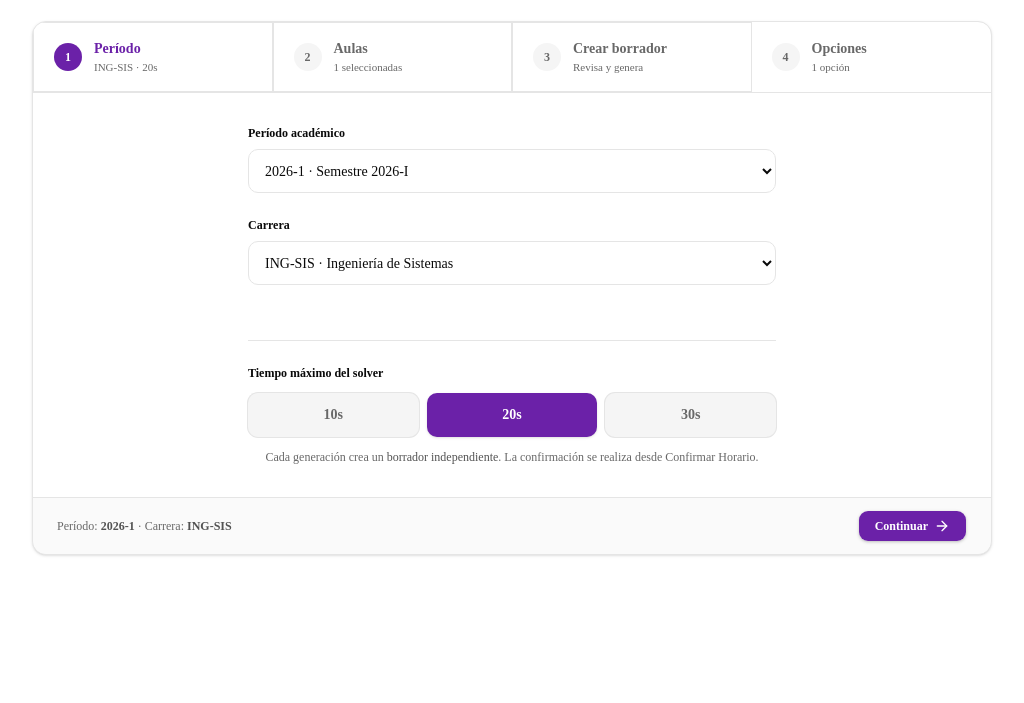
Test case: GenerateScheduleScreen › permite avanzar al paso 3 tras seleccionar aulas
The image size is (1024, 703).
Select "2026-1 · Semestre 2026-I" in the dropdown named "Período académico" at (512,171), box [248, 149, 776, 193]
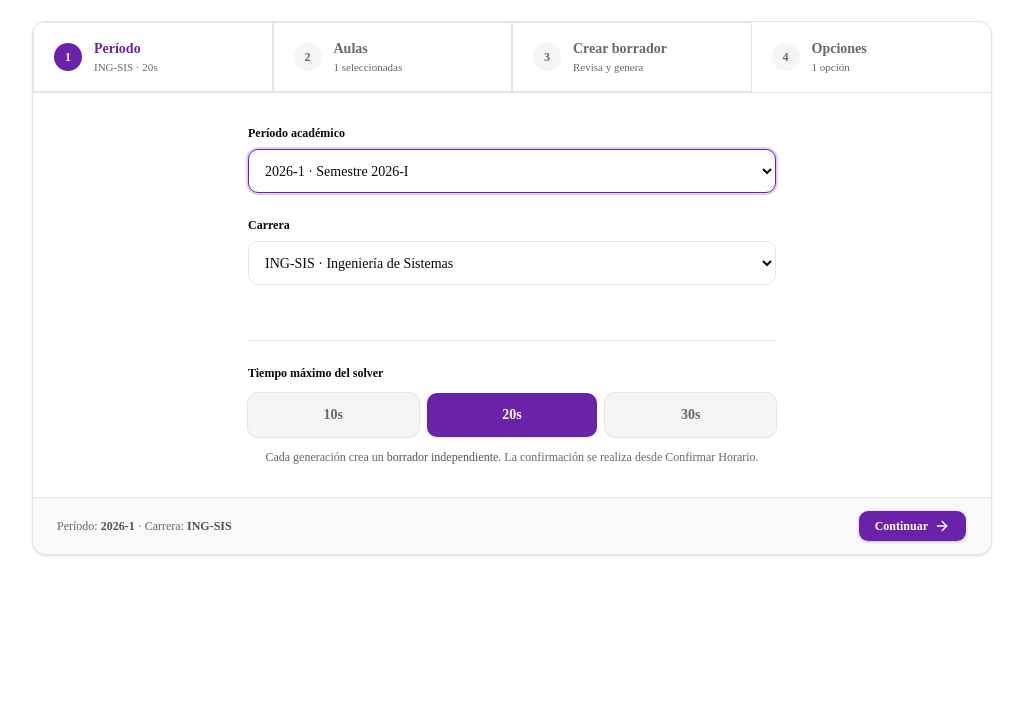
Select "ING-SIS · Ingeniería de Sistemas" in the dropdown named "Carrera" at (512,263), box [248, 241, 776, 285]
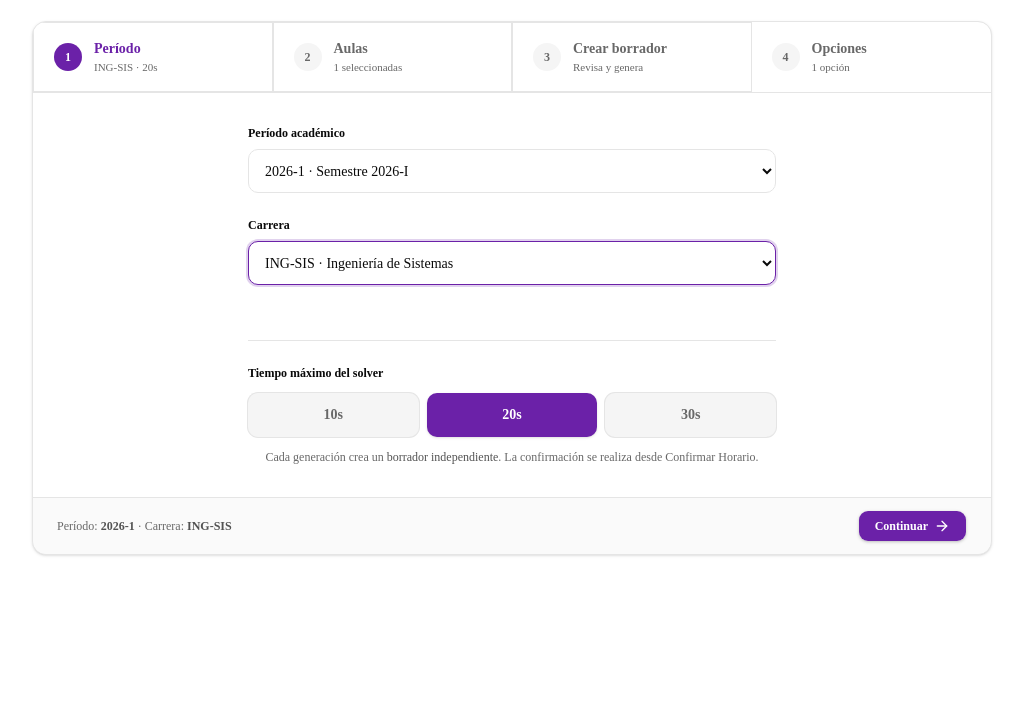
Click the button "Continuar".
click(912, 526)  # box [858, 510, 967, 542]
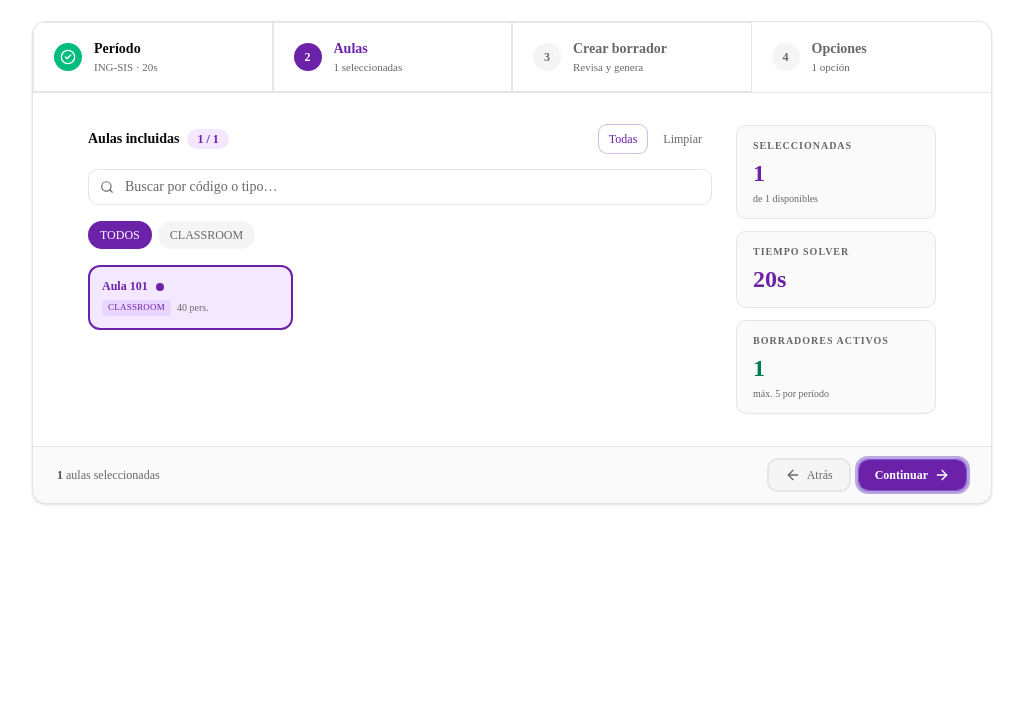
expect the text "Aulas incluidas" is shown: met, box [88, 129, 179, 149]
Click the button "Todas".
click(623, 139)  # box [599, 125, 647, 153]
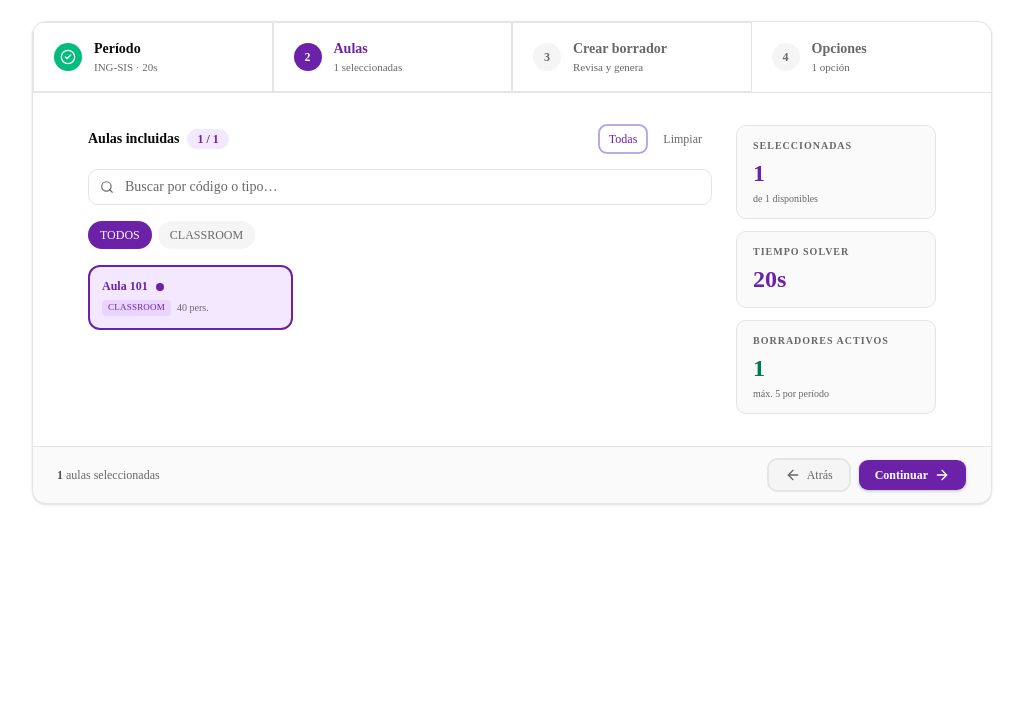
Click the button "Continuar".
click(912, 475)  # box [858, 459, 967, 491]
(page scrolled)
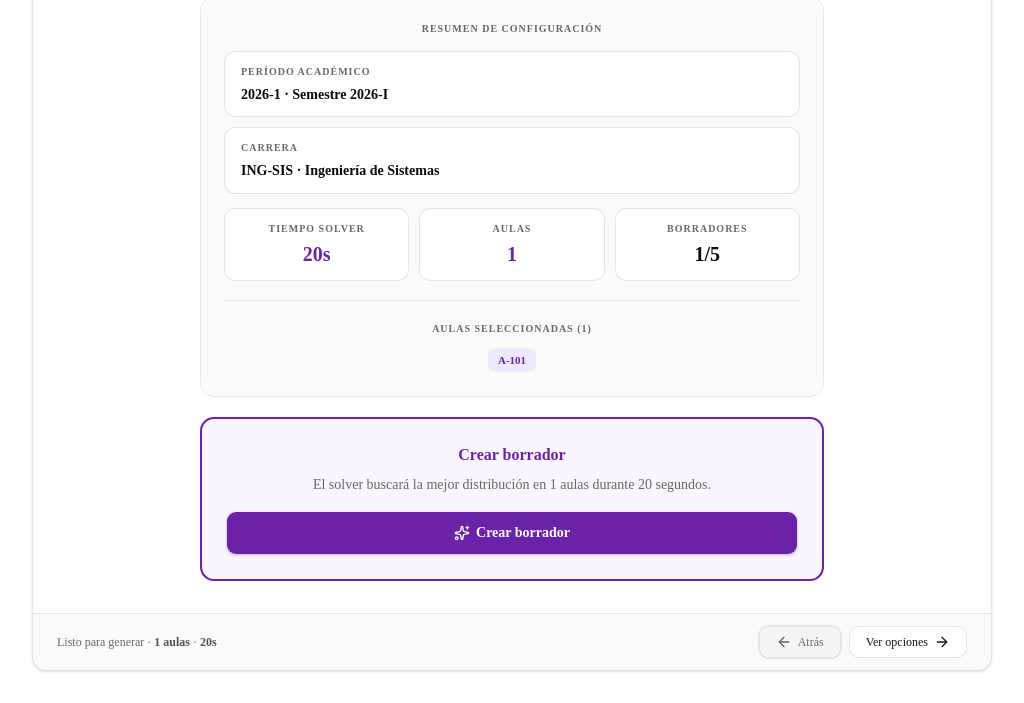
expect the text "Resumen de configuración" is shown: met, box [422, 23, 602, 34]
Click the button "Ver opciones".
click(908, 642)  # box [849, 626, 967, 658]
(page scrolled)
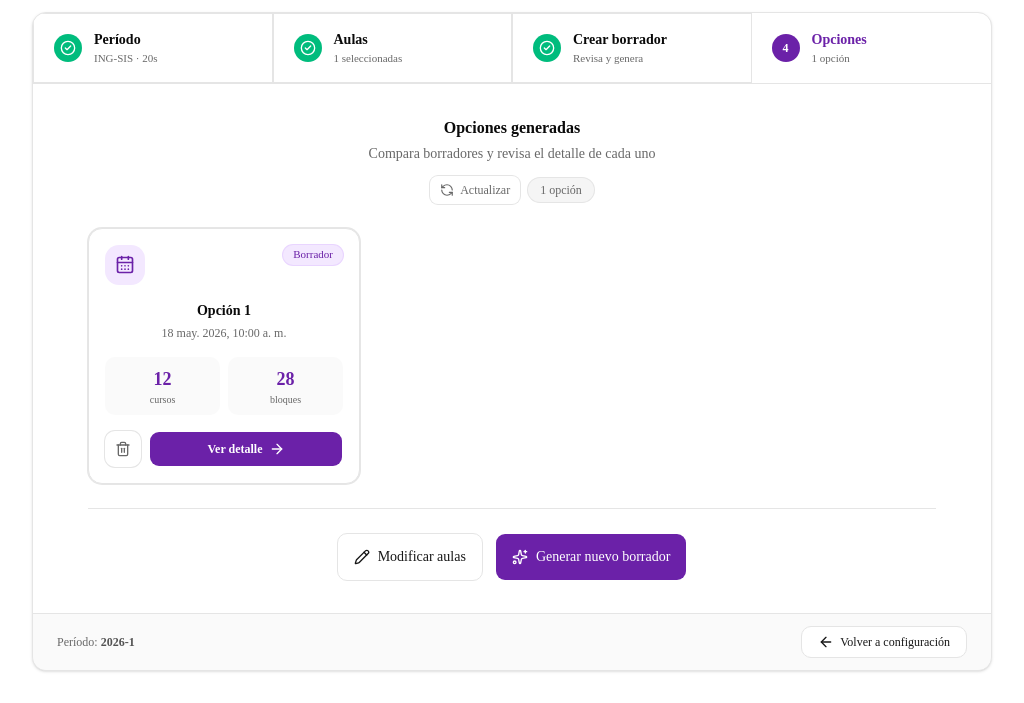
expect the heading "Opciones generadas" is shown: met, box [444, 119, 580, 136]
expect the text "28" is shown: met, box [276, 369, 294, 389]
